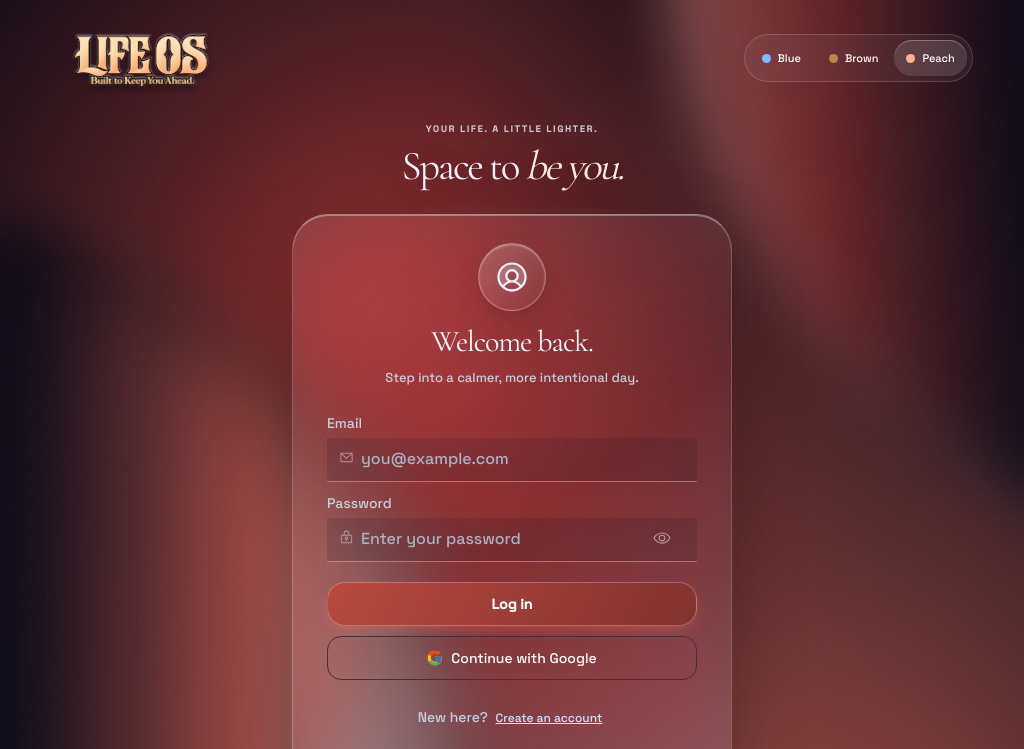
selects the supplied logo and keeps recovery and theme controls accessible
Click the button named "brown theme": {"x": 854, "y": 58} [817, 40, 890, 76]
(page scrolled)
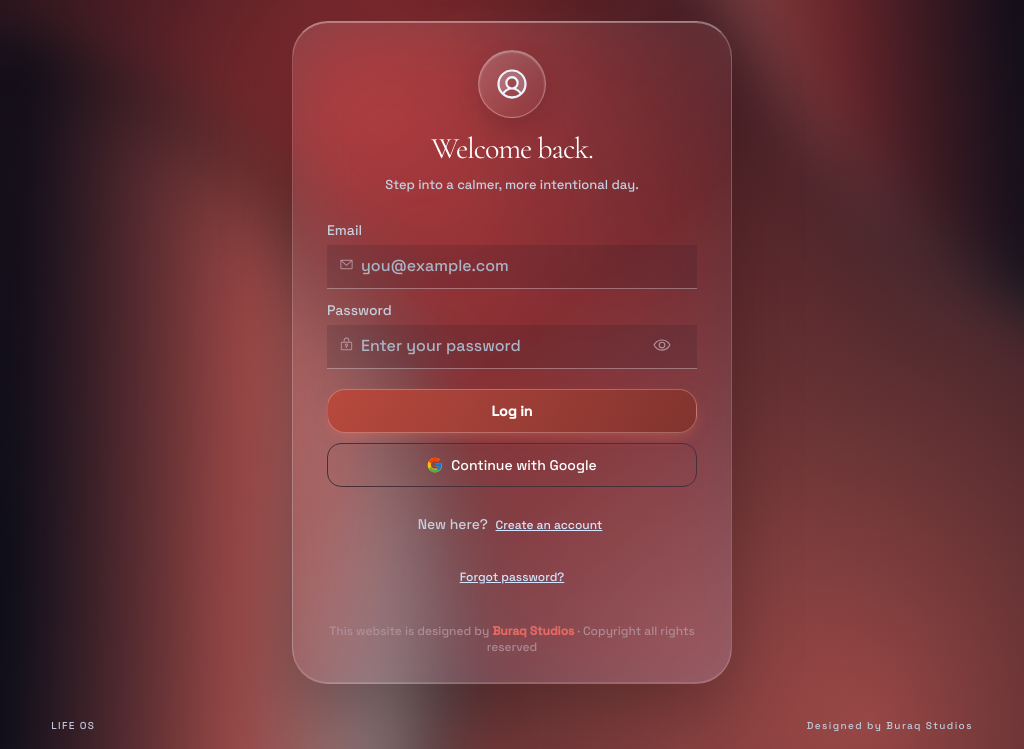
Click the button "Forgot password?": {"x": 512, "y": 577} [456, 555, 568, 599]
(page scrolled)
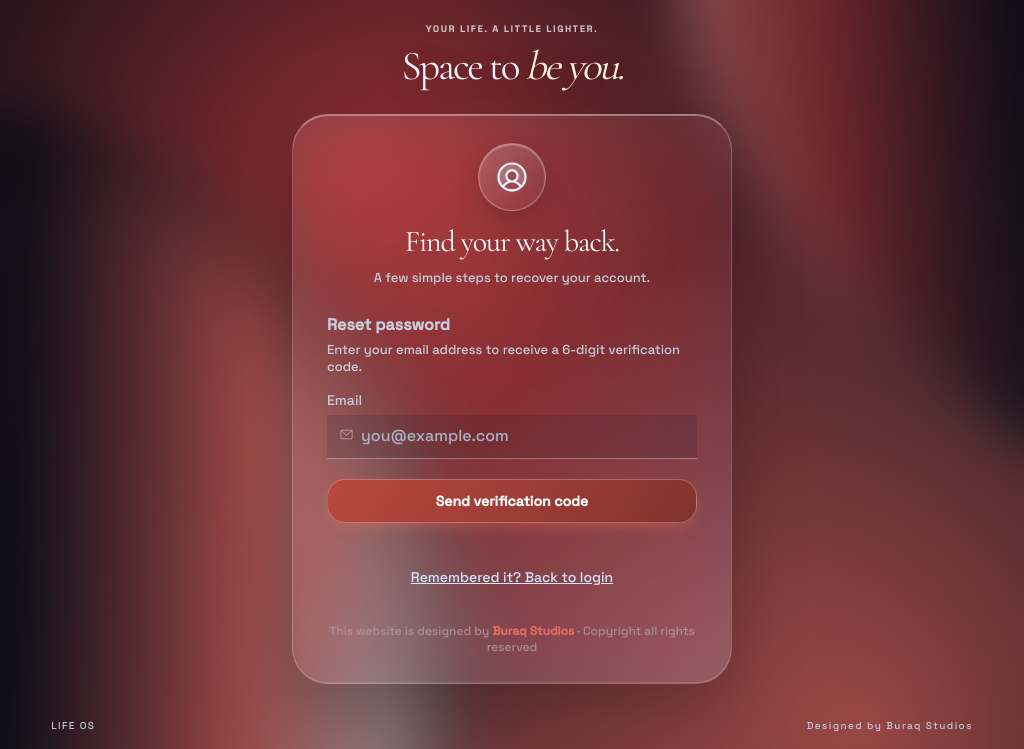
Now the form "Reset password" is shown, box [327, 314, 697, 533]
